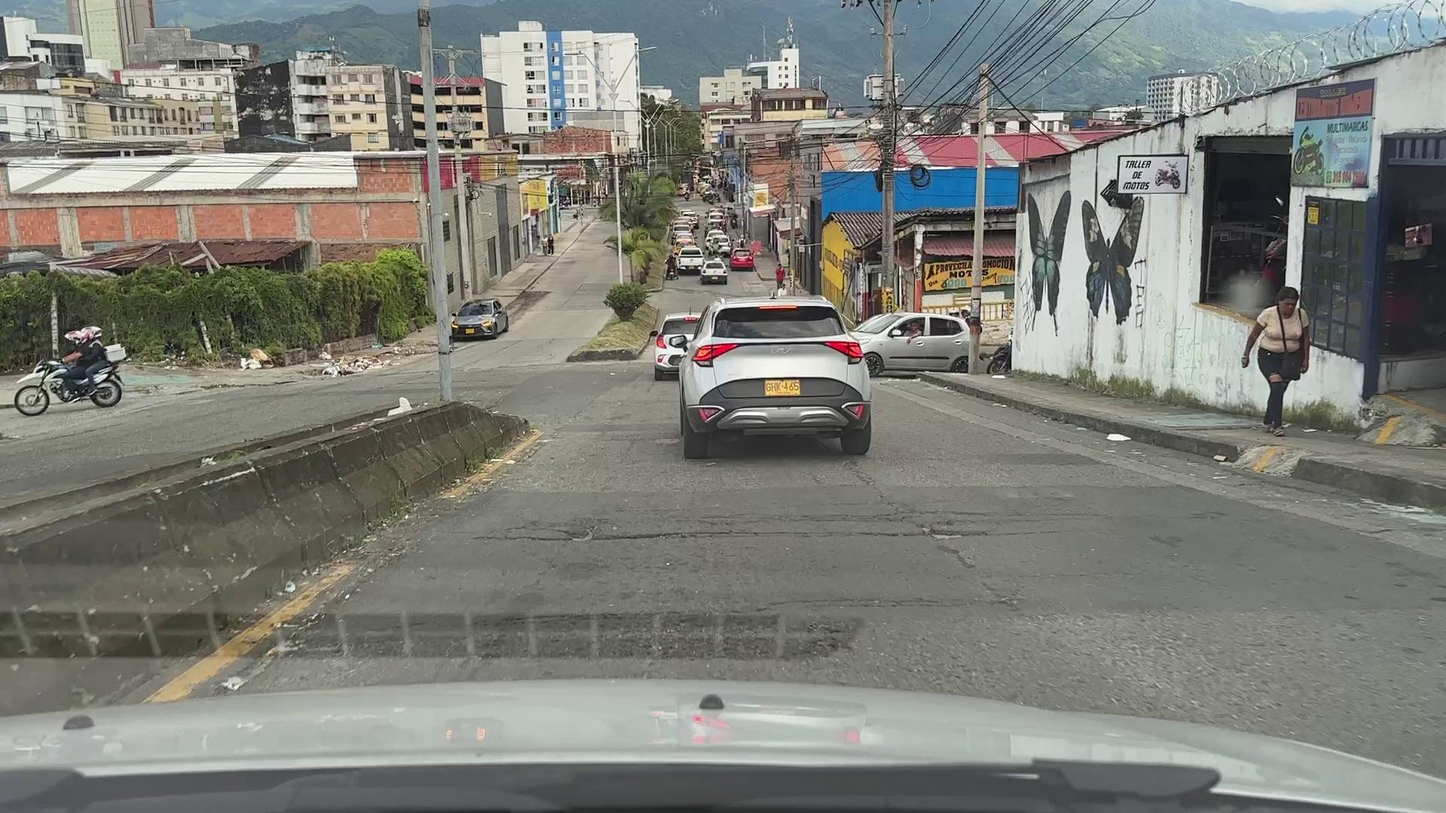bache: (509, 528, 676, 542), (865, 525, 987, 541)
grieta: (790, 460, 985, 522)
